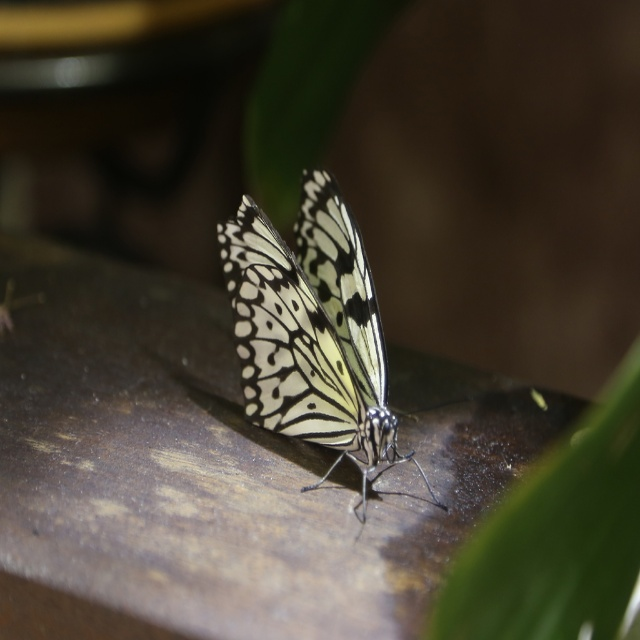Butterfly: (215, 165, 462, 521)
